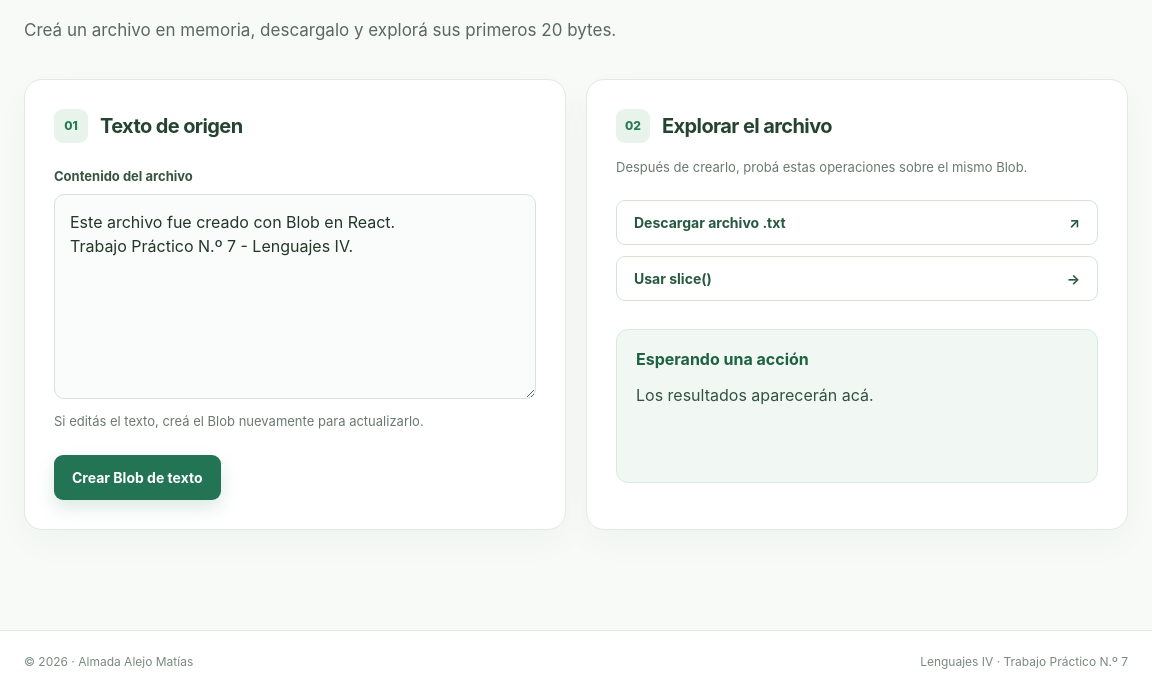
Test case: descarga el Blob creado con el nombre esperado
(page scrolled)
Click the button "Crear Blob de texto". click: [137, 477]
box: [54,455,220,500]
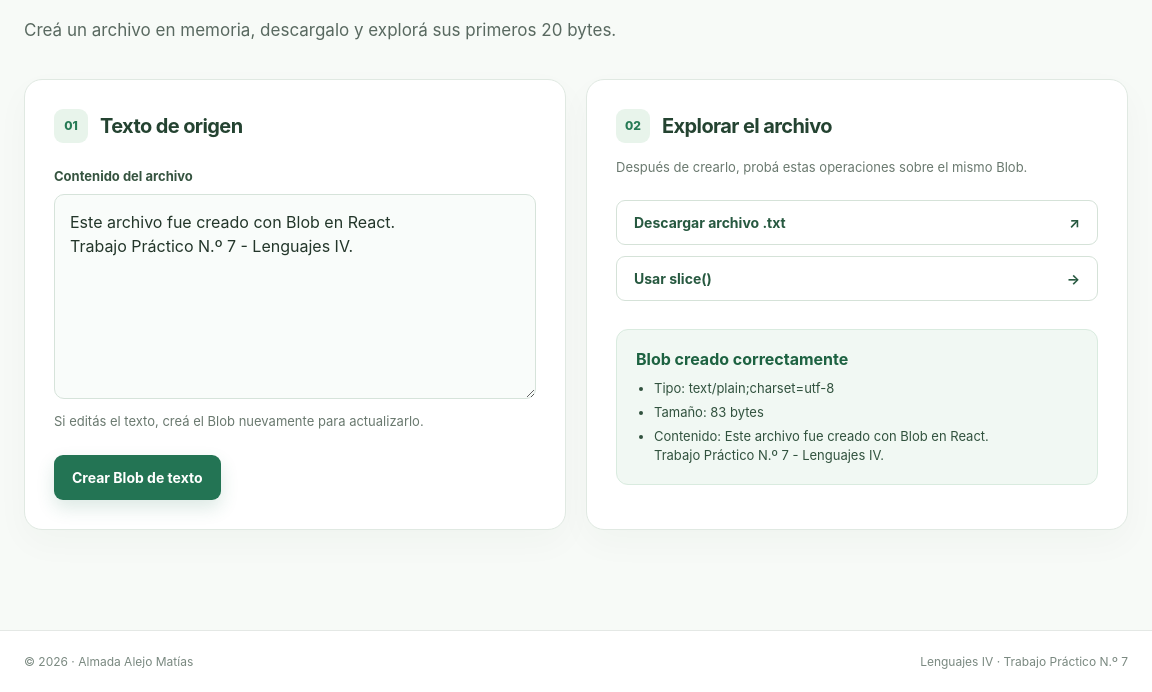
Click the button "Descargar archivo .txt ↗". click: [710, 223]
box: [616,200,1098,245]
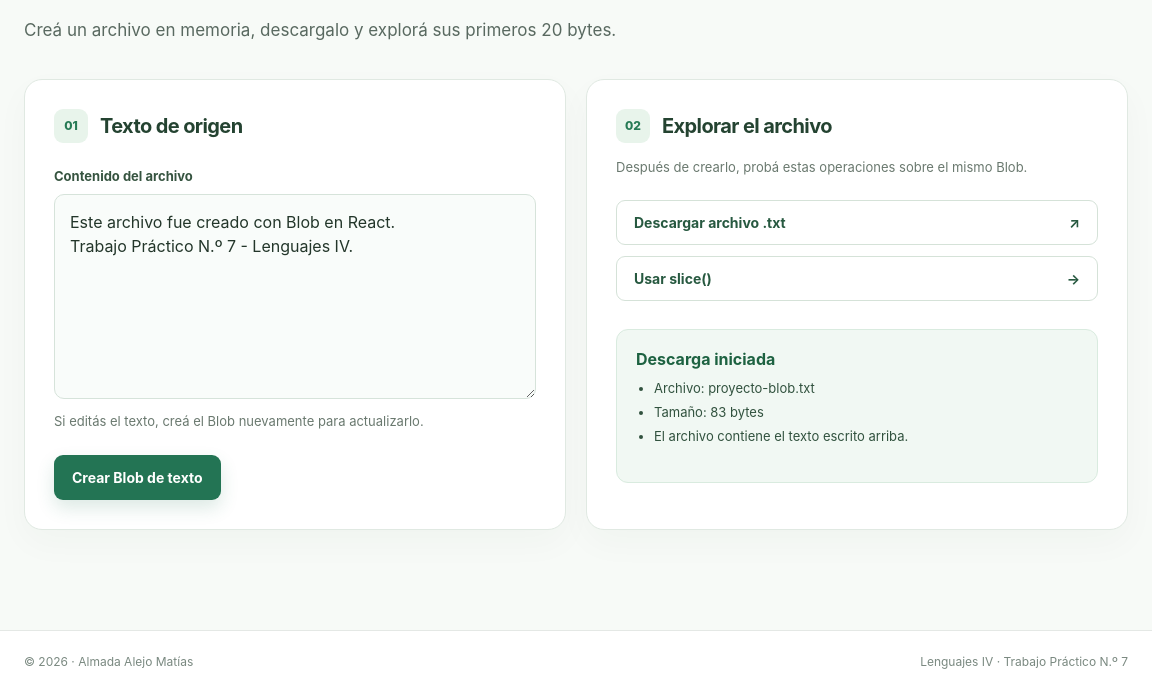
Expected: the list item "Archivo: proyecto-blob.txt" is shown, [654,380,815,396]
